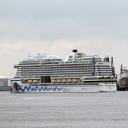cruises: (11, 50, 119, 96)
